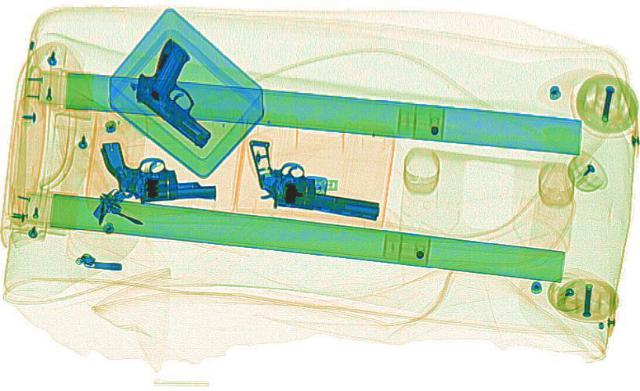Gun: (97, 38, 267, 146), (225, 139, 398, 218), (98, 135, 216, 204)
